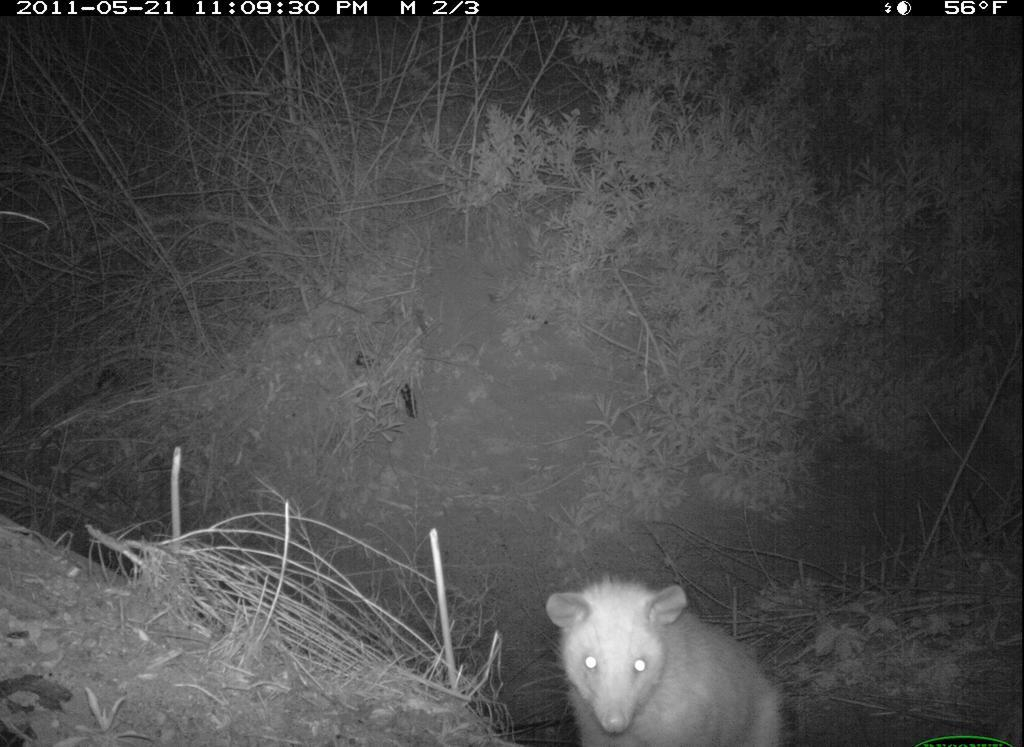opossum: (542, 571, 804, 747)
